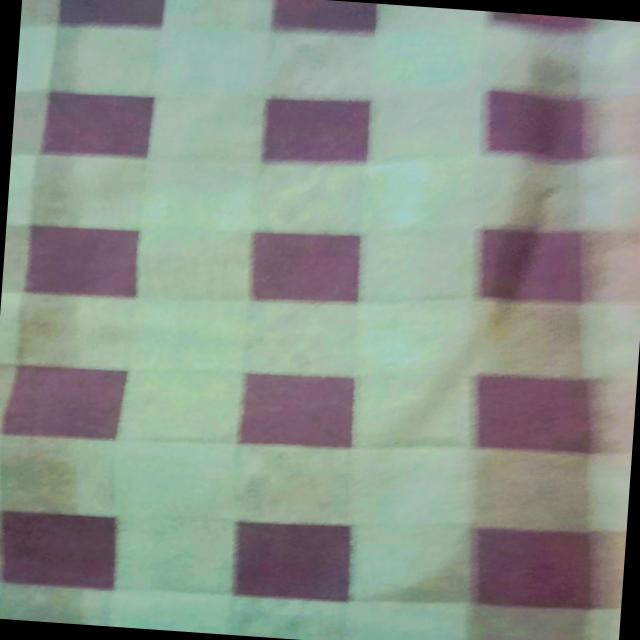color issues: (482, 53, 640, 640), (0, 149, 109, 623), (228, 437, 372, 543)
